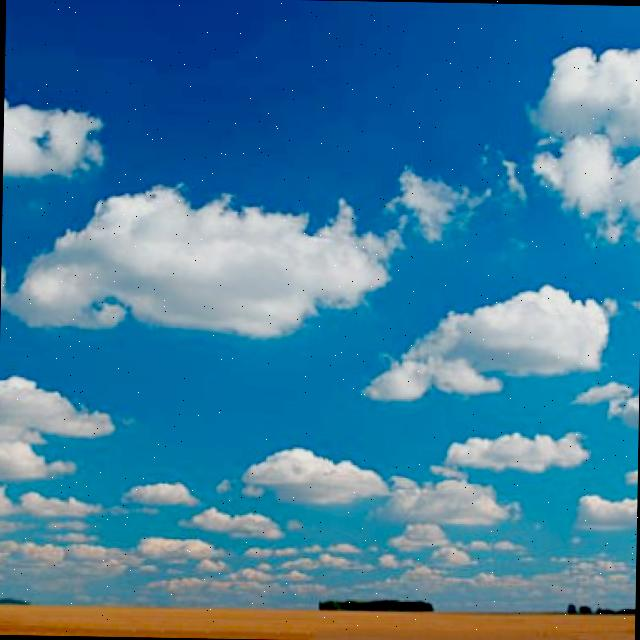Cu: (1, 22, 640, 588)
